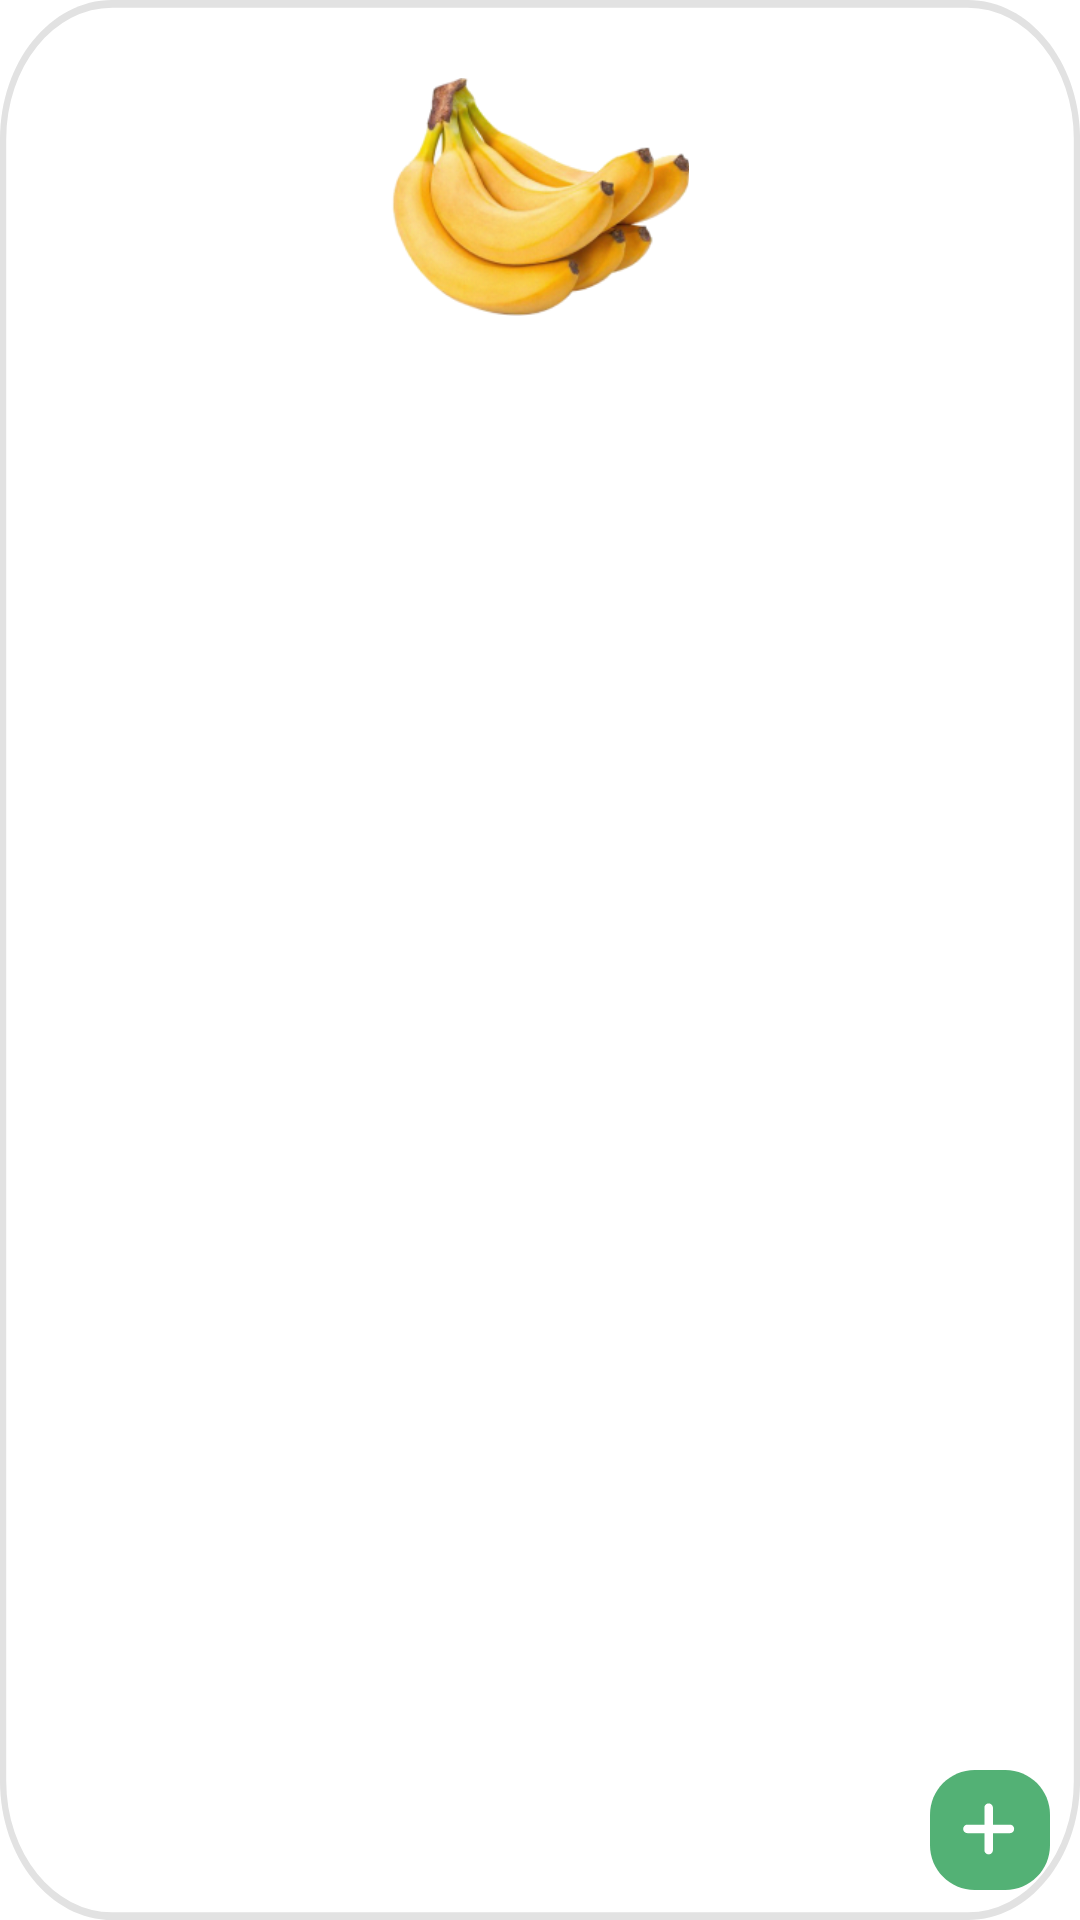

Icons on this 1080*1920 Android screen, each with the point to tap as (x=x, y=y):
banana: (x=541, y=197)
plus: (x=990, y=1830)
